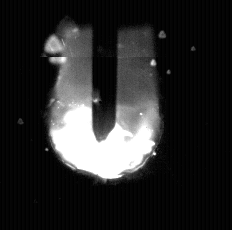arame: (93, 0, 117, 142)
poca: (50, 0, 162, 230)
